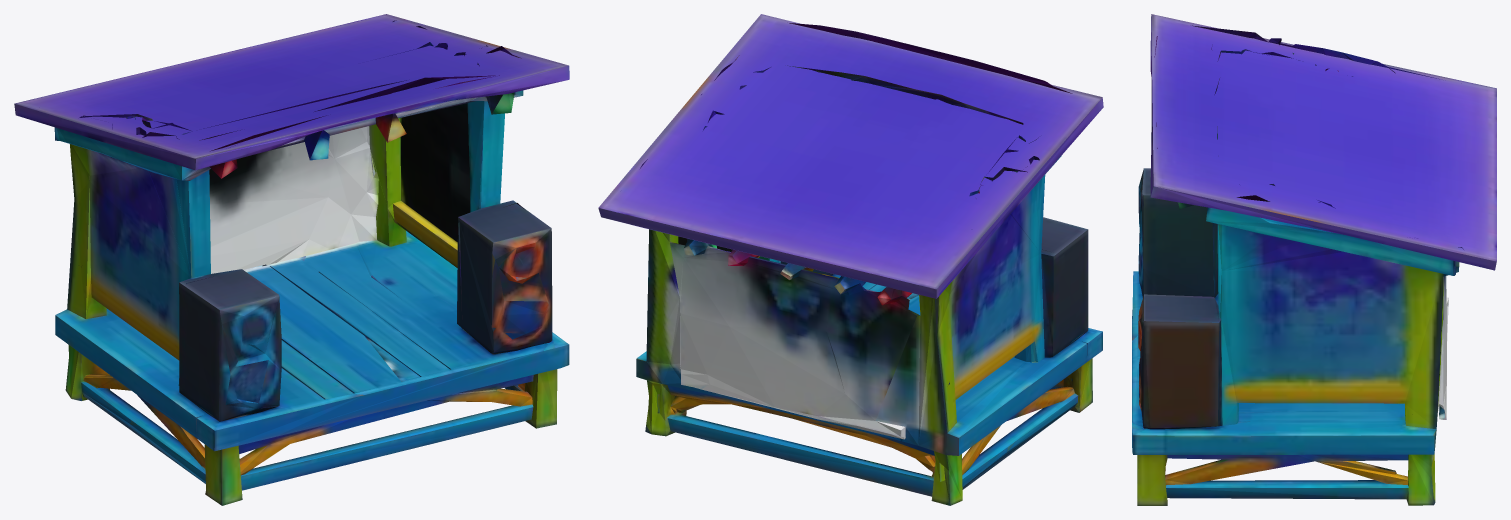
The model's file is stage.glb.
3 renders of one model, left to right at view 1: azimuth 30°, elevation 25°; view 2: azimuth 150°, elevation 25°; view 3: azimuth 270°, elevation 25°, orthographic. The views are drawn at different scales.
Visible parts, largest first — view 1: geometry_0; view 2: geometry_0; view 3: geometry_0.
Part boxes in pixels (bbox=[...]): geometry_0: bbox=[14, 14, 569, 505]; geometry_0: bbox=[598, 14, 1103, 505]; geometry_0: bbox=[1132, 14, 1496, 505].
Bounding box in the file's own units: 0.9884 × 0.894 × 0.8776.
Materials: 1 (1 with a texture image).
